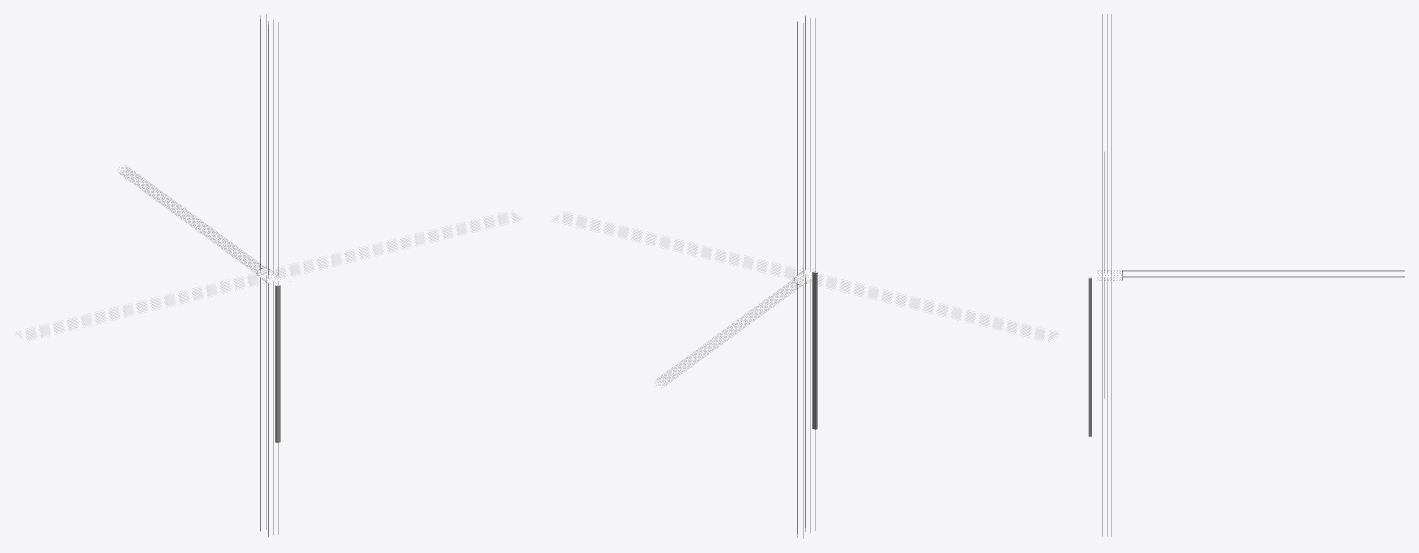
File: weave.glb
3 views of the same model, side by side, from view 1: azimuth 30°, elevation 25°; view 2: azimuth 150°, elevation 25°; view 3: azimuth 270°, elevation 25° (orthographic).
Parts seen in each view (by area): view 1: Construction, Static; view 2: Static, Construction; view 3: Construction, Static.
Part boxes in pixels (x1,y1,x2,y2): Construction: (275,285,280,442); Static: (119,20,278,529); Static: (650,15,1027,495); Construction: (812,272,817,429); Construction: (1088,278,1091,436); Static: (1102,14,1404,527).
Size of the model in its own units: 375 by 371 by 205.
Materials: 8 (2 with a texture image).
